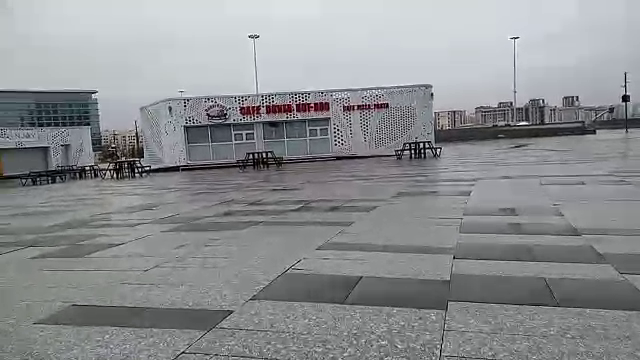kebab: (180, 94, 418, 157)
